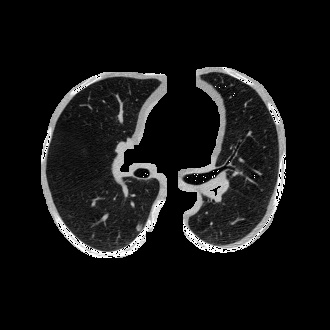PN: (136, 225, 140, 229)
